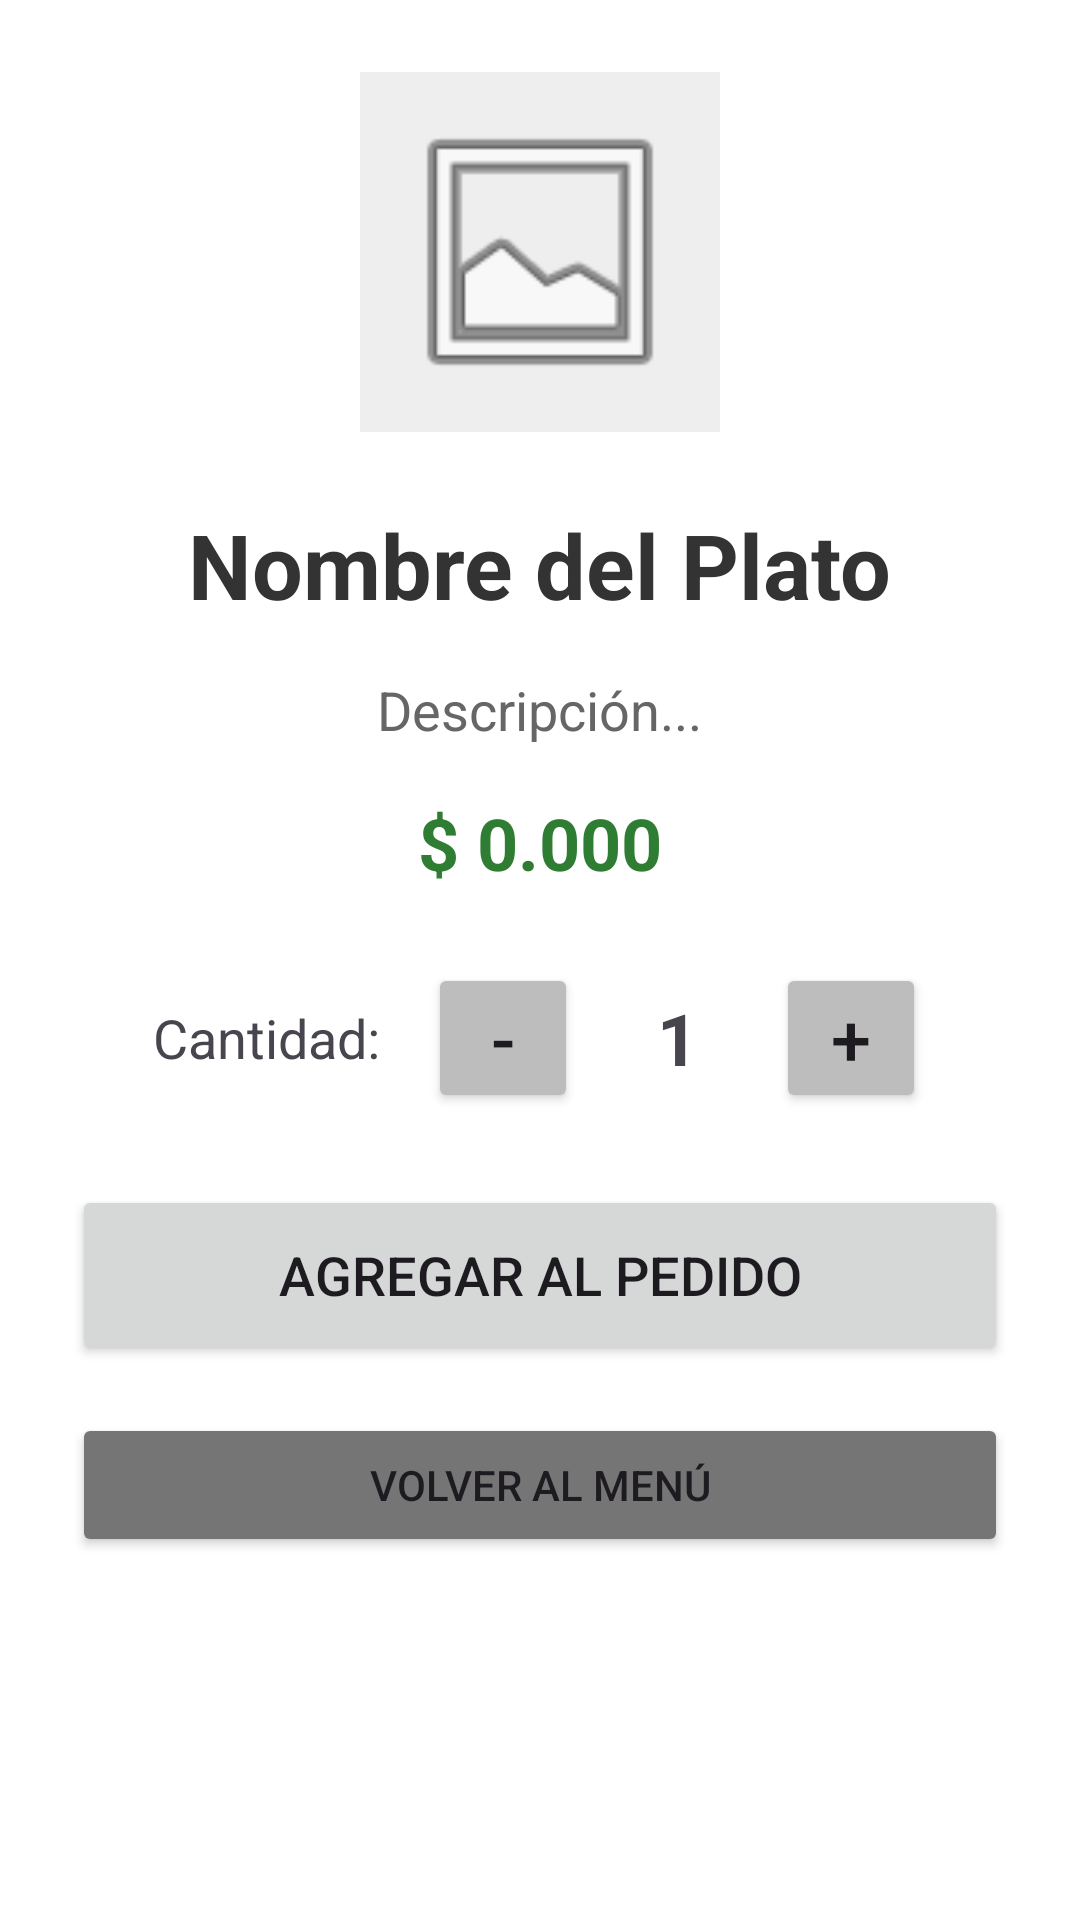

Named icons in this screenshot (1080 x 1920) and their bounding boxes, (left=x1, top=y1, right=x2, bottom=y2):
gallery: (left=360, top=72, right=720, bottom=432)
